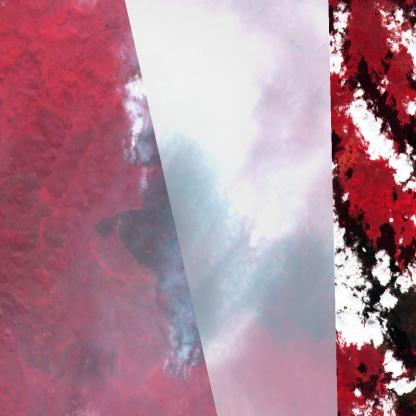fire: (116, 67, 208, 188), (159, 324, 217, 386), (240, 226, 269, 259)
